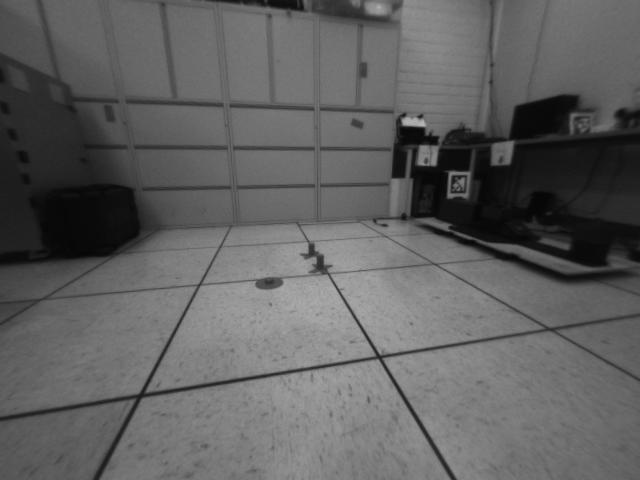X: (310, 254, 333, 274), (301, 243, 320, 259)
